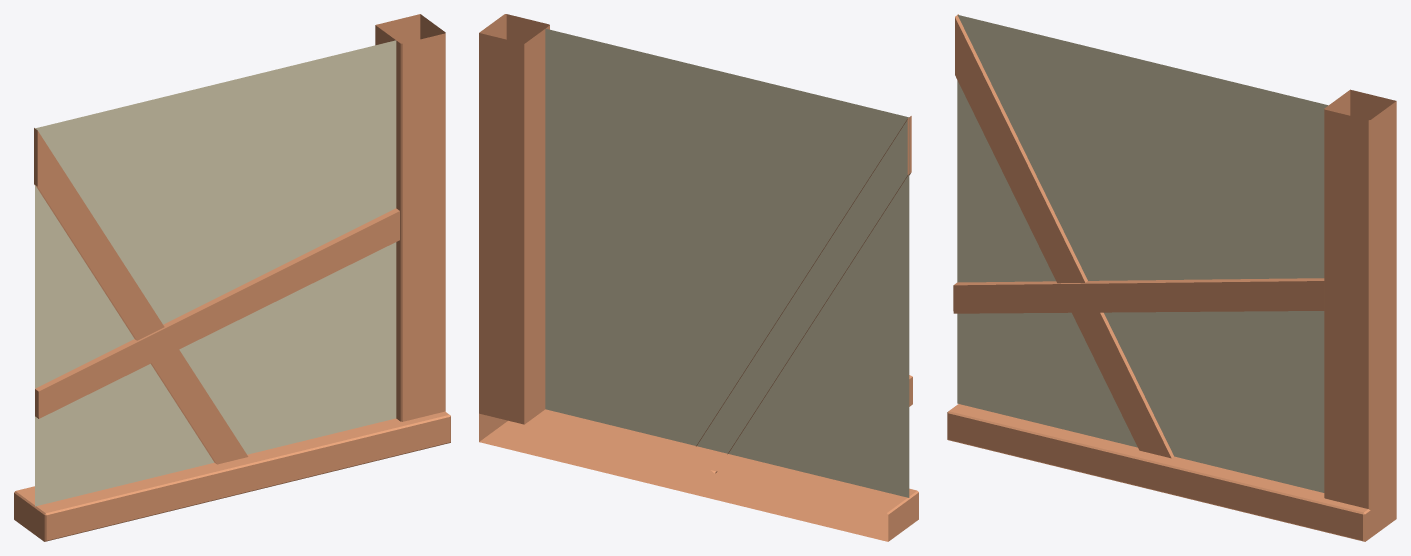
The model's file is Wall3_low.fbx.
3 renders of one model, left to right at view 1: azimuth 30°, elevation 25°; view 2: azimuth 150°, elevation 25°; view 3: azimuth 330°, elevation 25°, orthographic. The views are drawn at different scales.
Visible parts, largest first — view 1: Wall3_low, Wall3_plank1_low, Wall3_plank2_low; view 2: Wall3_low, Wall3_plank1_low, Wall3_plank2_low; view 3: Wall3_low, Wall3_plank1_low, Wall3_plank2_low.
Part boxes in pixels (left/top/right/bottom): Wall3_low: left=35, top=40, right=396, bottom=506; Wall3_plank1_low: left=14, top=14, right=450, bottom=541; Wall3_plank2_low: left=34, top=128, right=399, bottom=464; Wall3_low: left=545, top=28, right=909, bottom=497; Wall3_plank1_low: left=479, top=14, right=918, bottom=541; Wall3_plank2_low: left=696, top=116, right=912, bottom=473; Wall3_low: left=957, top=14, right=1328, bottom=492; Wall3_plank1_low: left=947, top=89, right=1396, bottom=541; Wall3_plank2_low: left=953, top=14, right=1324, bottom=458.
Bounding box in the file's own units: 450 × 430 × 60.
